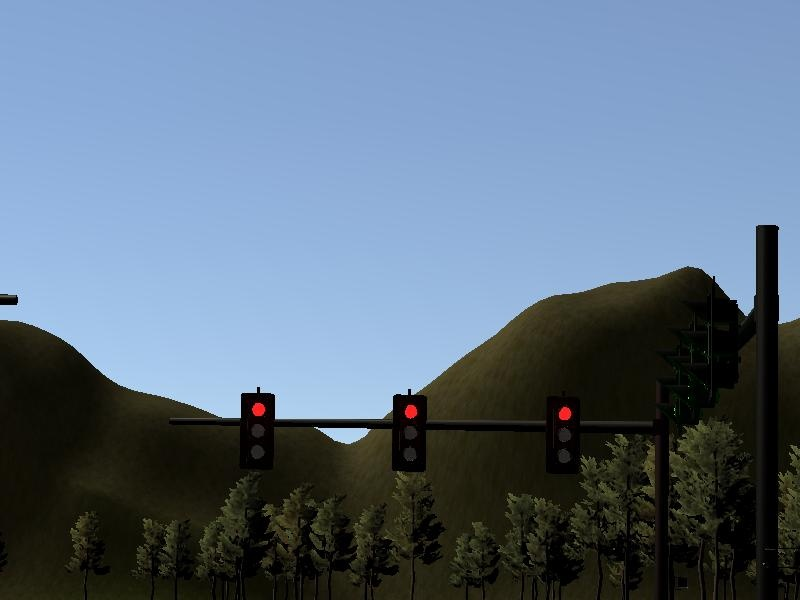traffic_light_red: (229, 391, 631, 475)
